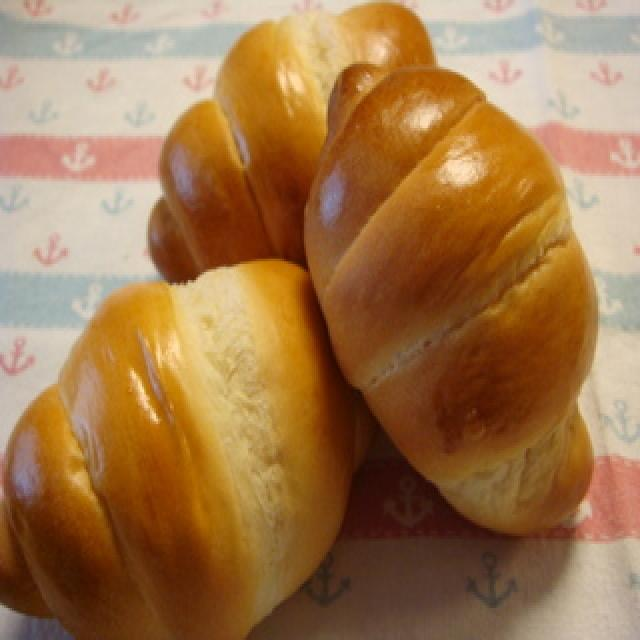面包点心: (284, 37, 600, 539)
